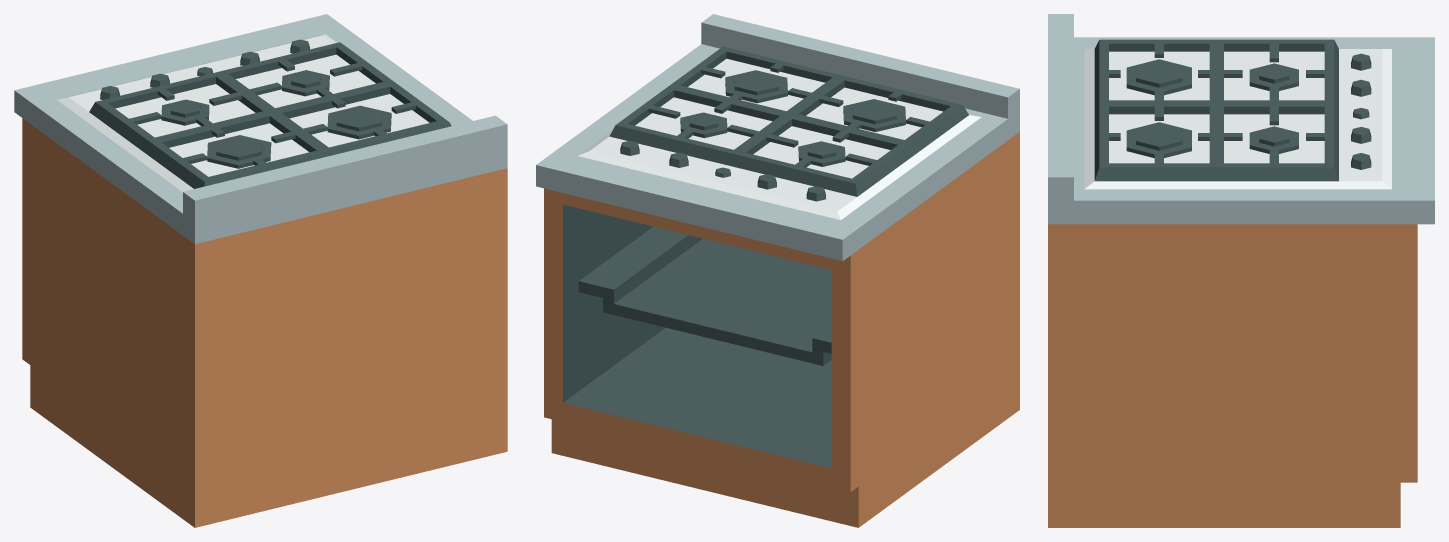
Rendered from KitchenStove.glb.
The picture shows the model from 3 angles, left to right: view 1: azimuth 30°, elevation 25°; view 2: azimuth 150°, elevation 25°; view 3: azimuth 270°, elevation 25°; orthographic projection. The views are drawn at different scales.
Parts seen in each view (by area): view 1: KitchenStove; view 2: KitchenStove; view 3: KitchenStove.
Boxes of the visible parts, x1,y1,x2,y2 form: KitchenStove: [14, 14, 507, 527]; KitchenStove: [536, 14, 1019, 527]; KitchenStove: [1048, 14, 1434, 527].
Bounding box in the file's own units: 1 × 1 × 1.
